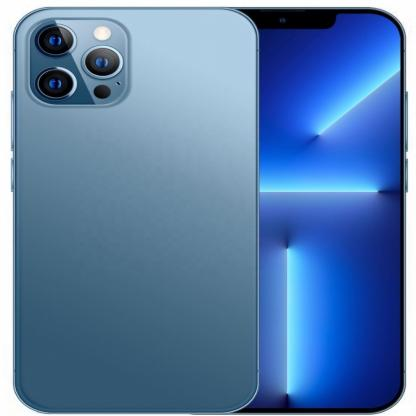SMARTPHONE: (12, 5, 412, 416)
